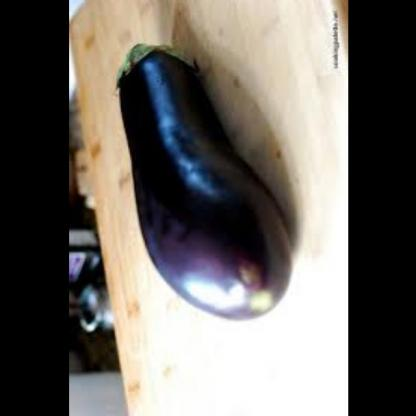eggplant: (109, 1, 293, 358)
